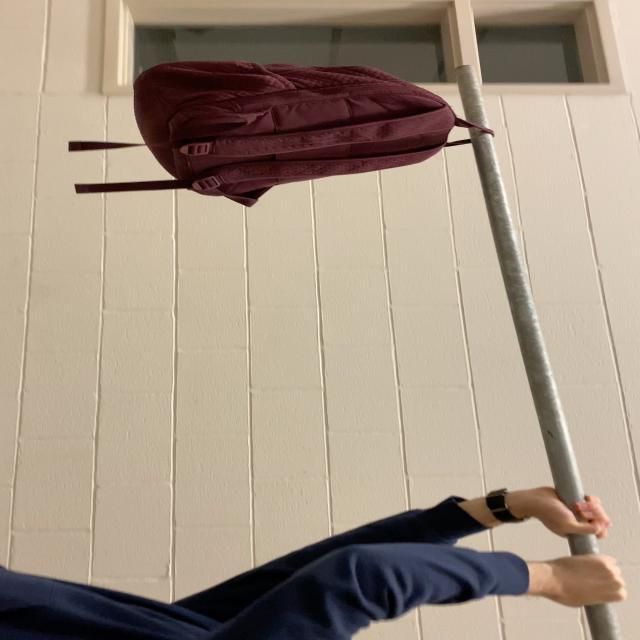Backpacks: (132, 60, 458, 201)
